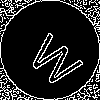W: (25, 25, 90, 91)
